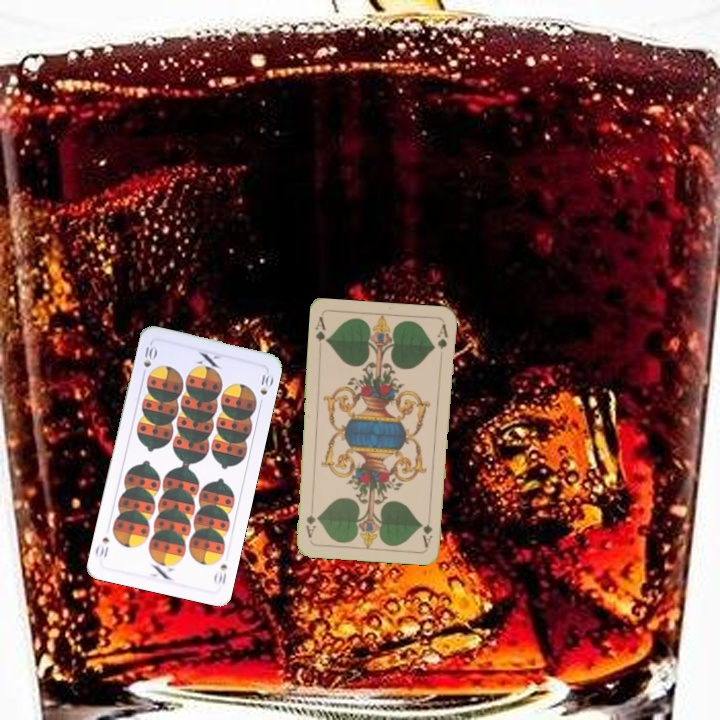GA: (311, 313, 331, 345), (419, 509, 435, 549)
S10: (139, 340, 159, 370), (210, 560, 230, 587)
